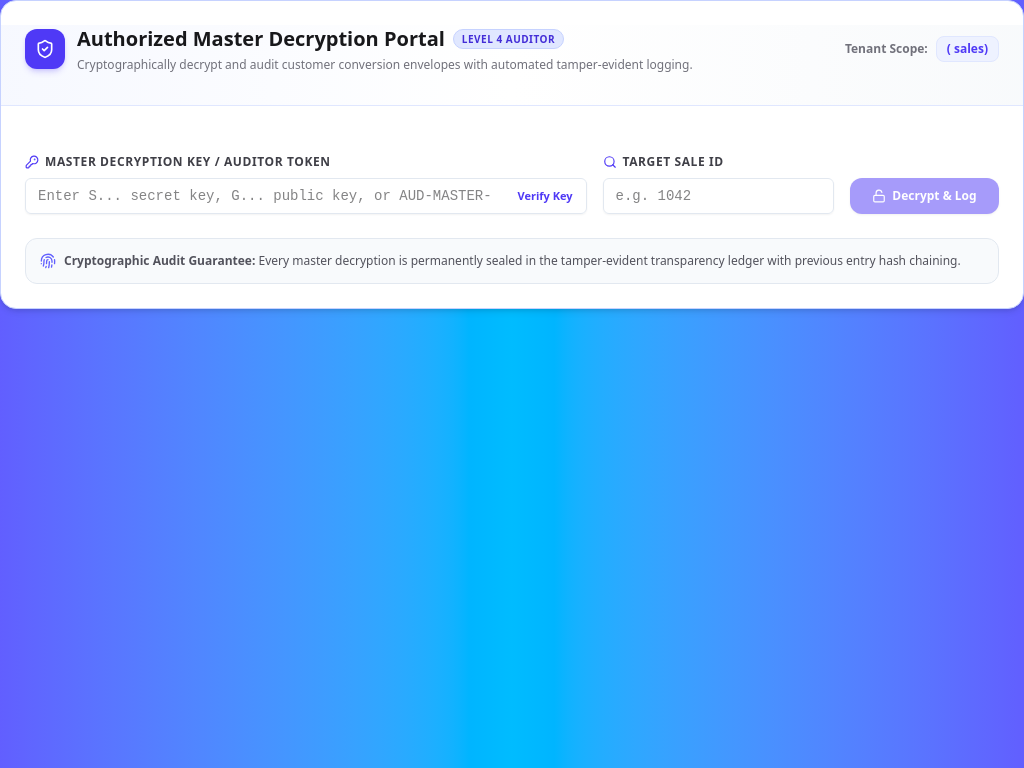
Test case: MasterDecryptionPortal (#58) › handles empty key validation error
This screenshot has width=1024, height=768.
Click the button with test id "btn-validate-key": x=545, y=196 [508,182,582,210]
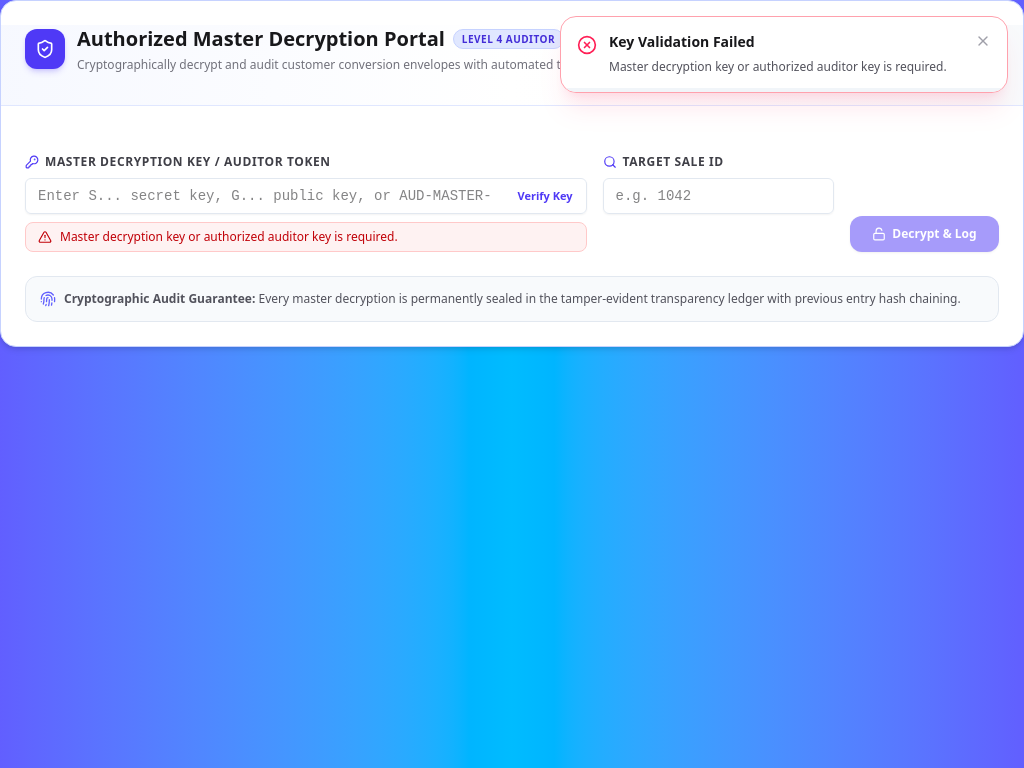
Expected: the text "Master decryption key or authorized auditor key is required." below "Master Decryption Key / Auditor Token" is shown, [60,228,398,245]
